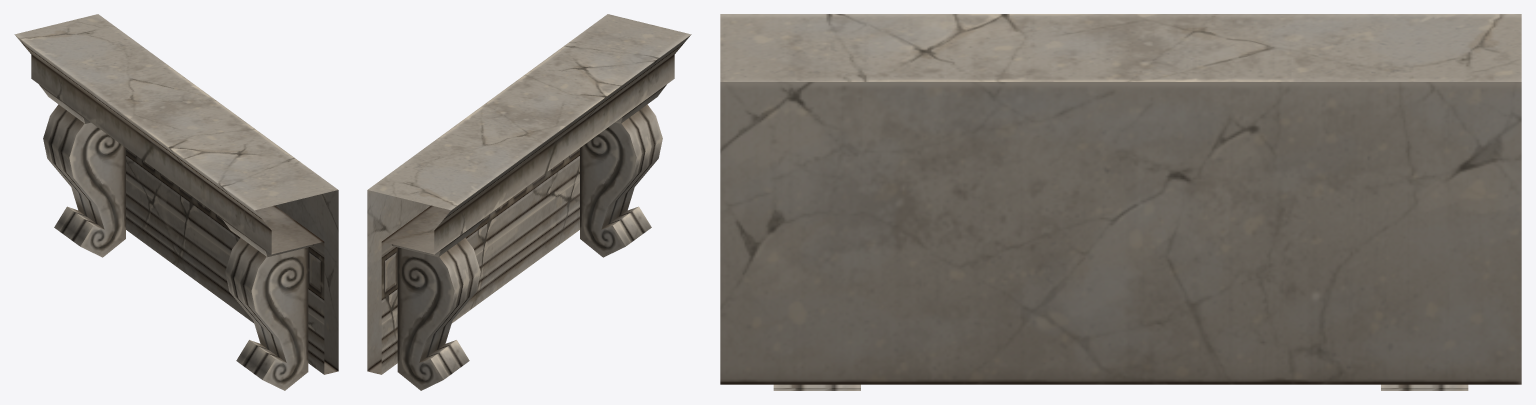
File: cornice02_mid.fbx
3 renders of one model, left to right at view 1: azimuth 30°, elevation 25°; view 2: azimuth 150°, elevation 25°; view 3: azimuth 270°, elevation 25°, orthographic. The views are drawn at different scales.
Parts seen in each view (by area): view 1: cornice02_mid; view 2: cornice02_mid; view 3: cornice02_mid.
Boxes of the visible parts, <box> form: cornice02_mid: <box>14,14,338,390</box>; cornice02_mid: <box>367,14,691,390</box>; cornice02_mid: <box>720,14,1521,390</box>.
Size of the model in its own units: 60.38 by 140 by 300.
